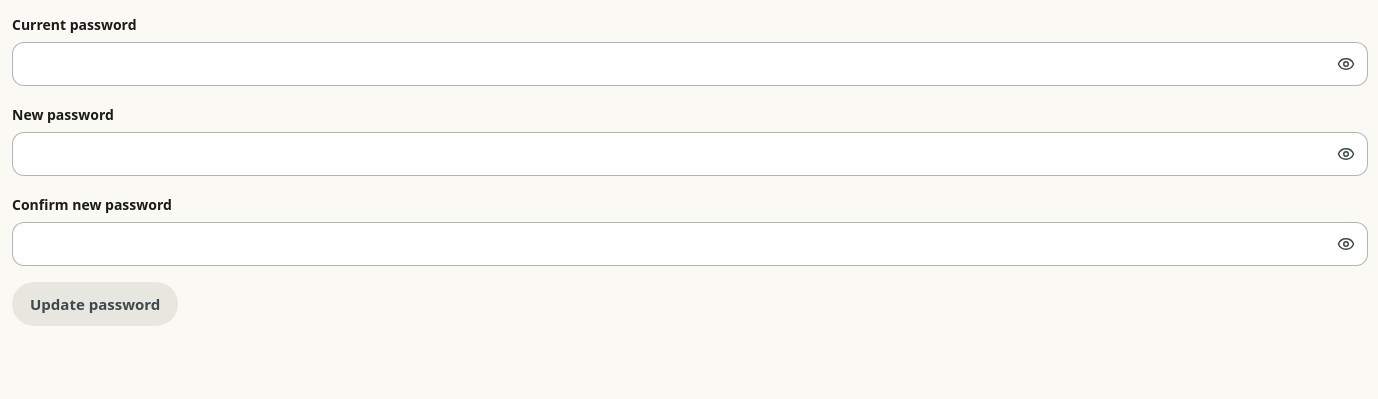
Test: ChangePasswordForm › explains throttling instead of echoing the raw 429
Type "old-password" into the password field labelled "Current password" at (690, 64), box [12,42,1368,86]
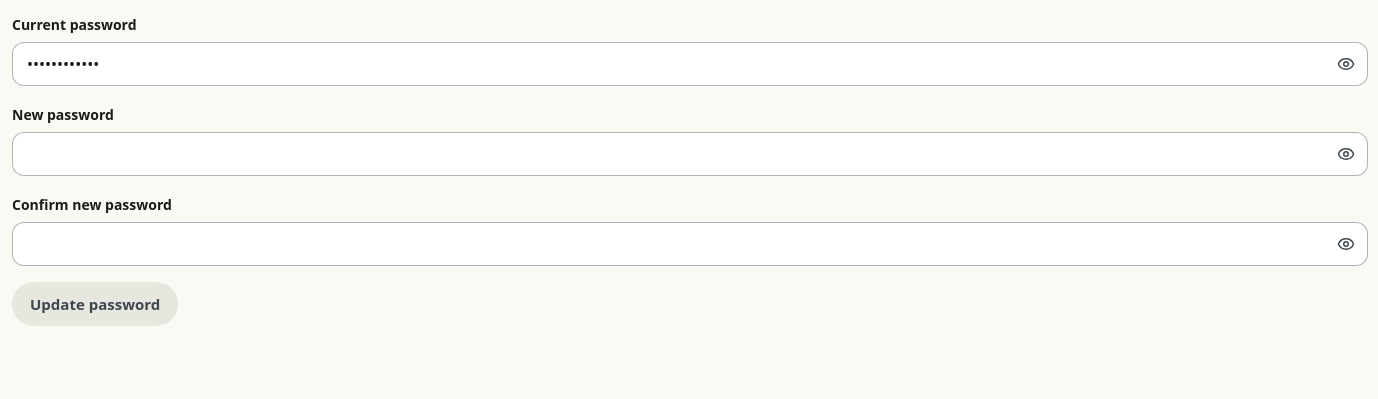
Type "new-password-123" into the password field labelled "New password" at (690, 154), box [12,132,1368,176]
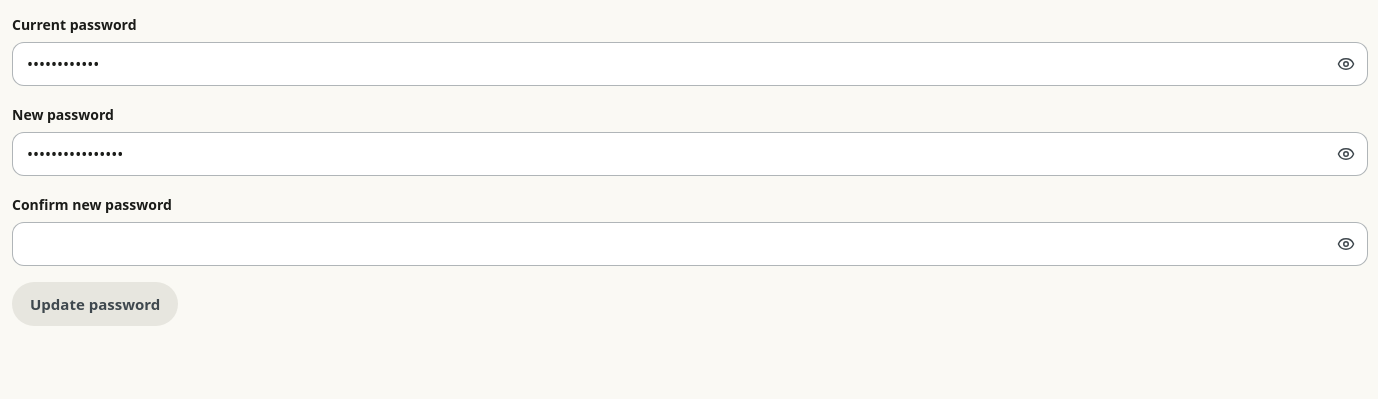
Type "new-password-123" into the password field labelled "Confirm new password" at (690, 244), box [12,222,1368,266]
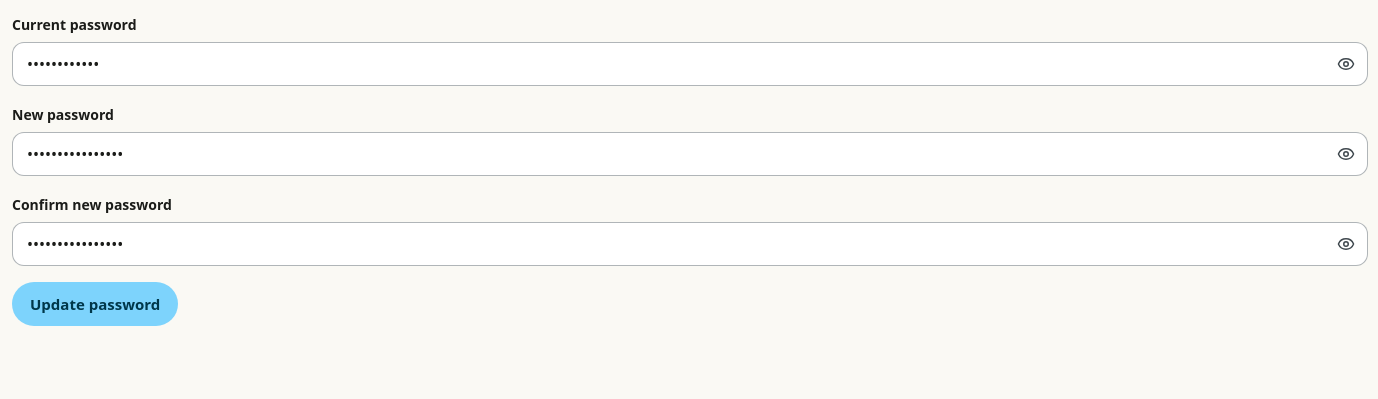
Click the button named "Update password" at (95, 304), box [12,282,178,326]
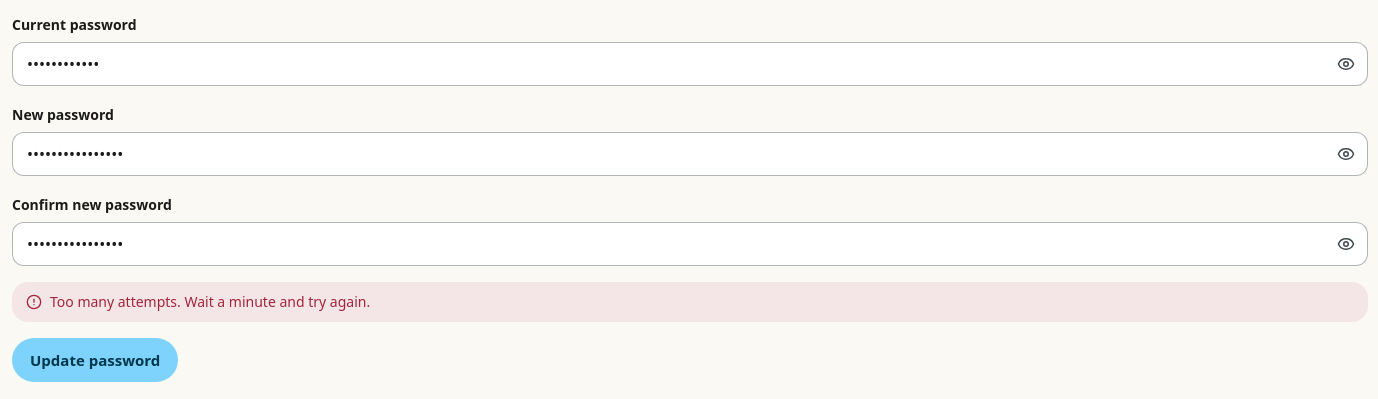
Check: the message reads "Too many attempts. Wait a minute and try again.", box [50,292,370,311]
